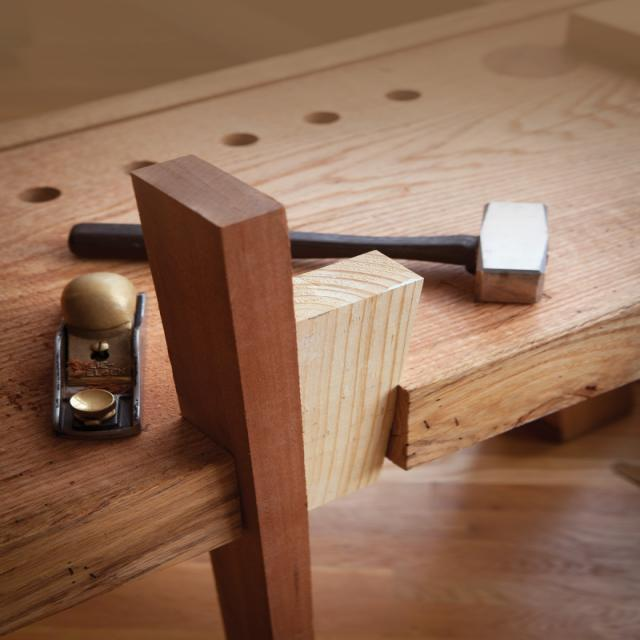hammer: (54, 181, 590, 298)
